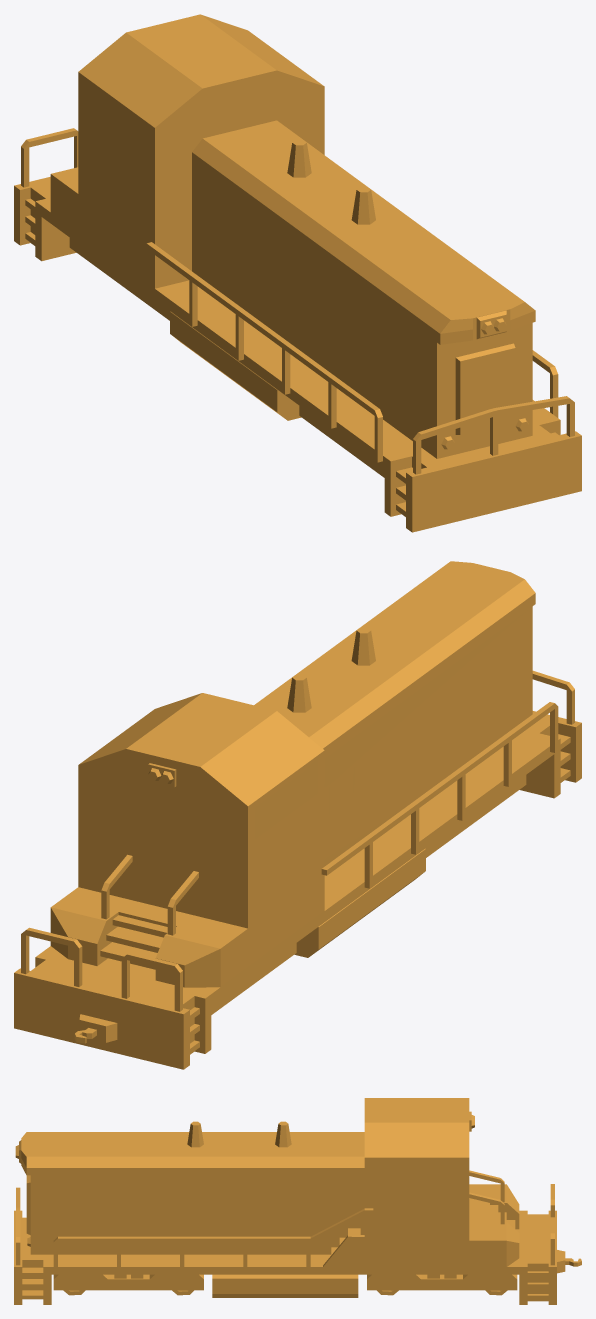
Rendered from train-freight-short.glb.
3 views of the same model, one above another, from view 1: azimuth 30°, elevation 25°; view 2: azimuth 150°, elevation 25°; view 3: azimuth 270°, elevation 25° (orthographic). The views are drawn at different scales.
Parts seen in each view (by area): view 1: train-freight-short-base, train-freight-short-wheel-frame_B, train-freight-short-wheel-frame_F; view 2: train-freight-short-base, train-freight-short-wheel-frame_F, train-freight-short-wheel-frame_B; view 3: train-freight-short-base, train-freight-short-wheel-frame_F, train-freight-short-wheel-frame_B.
Boxes of the visible parts, <box> form: train-freight-short-base: <box>14,14,581,532</box>; train-freight-short-wheel-frame_B: <box>69,238,170,320</box>; train-freight-short-wheel-frame_F: <box>299,406,384,477</box>; train-freight-short-base: <box>14,561,581,1069</box>; train-freight-short-wheel-frame_F: <box>425,775,526,857</box>; train-freight-short-wheel-frame_B: <box>211,943,296,1014</box>; train-freight-short-base: <box>14,1098,581,1304</box>; train-freight-short-wheel-frame_F: <box>53,1274,203,1290</box>; train-freight-short-wheel-frame_B: <box>367,1274,517,1290</box>.
Bounding box in the file's own units: 3.4 × 4.55 × 13.6.
